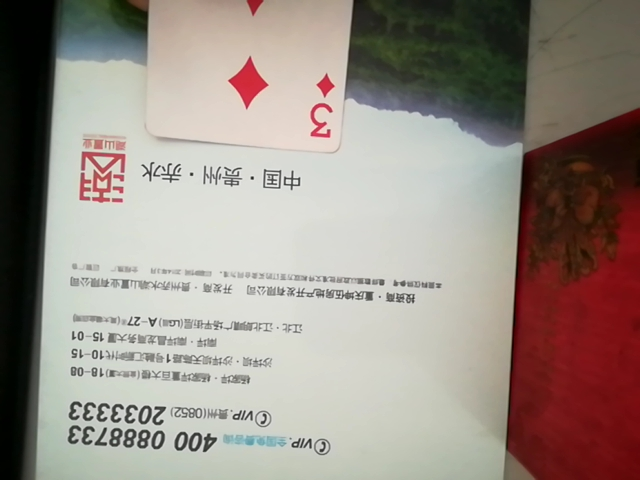fk 3: (138, 1, 358, 150)
